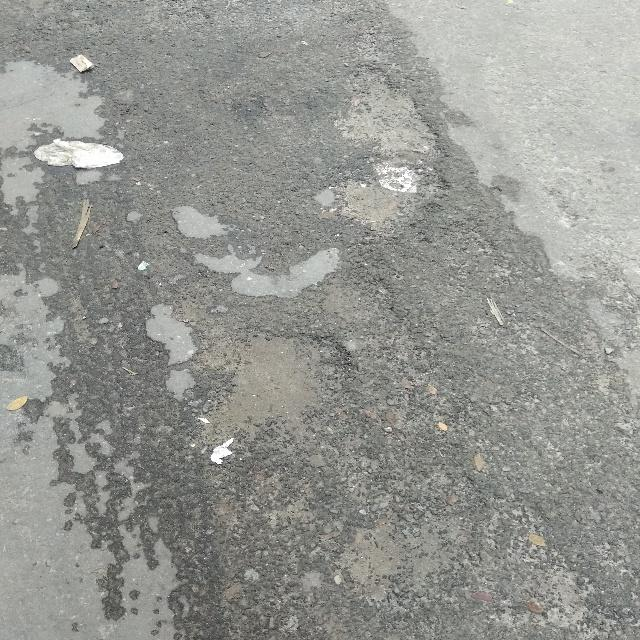Surface Erosion: (1, 37, 573, 609)
